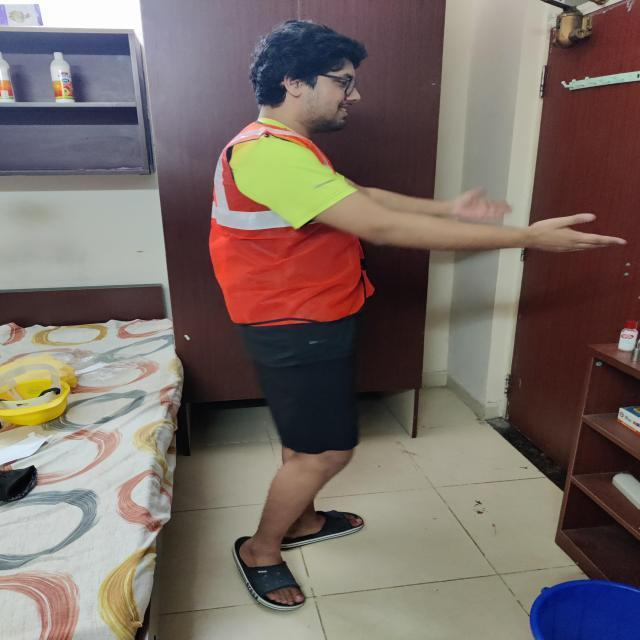no-helmet: (245, 19, 367, 110)
vest: (208, 124, 378, 330)
